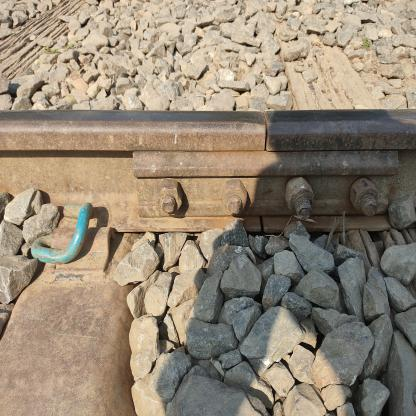Non Defective: (100, 96, 402, 258), (20, 178, 112, 298)
